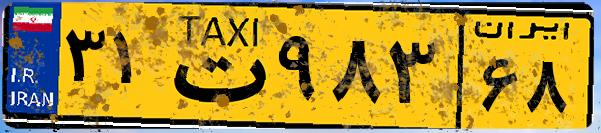1: (110, 28, 158, 98)
3: (385, 28, 445, 110), (57, 26, 110, 100)
6: (475, 38, 525, 113)
8: (330, 28, 385, 110), (525, 38, 570, 115)
9: (270, 28, 330, 110)
ت: (158, 12, 270, 120)
